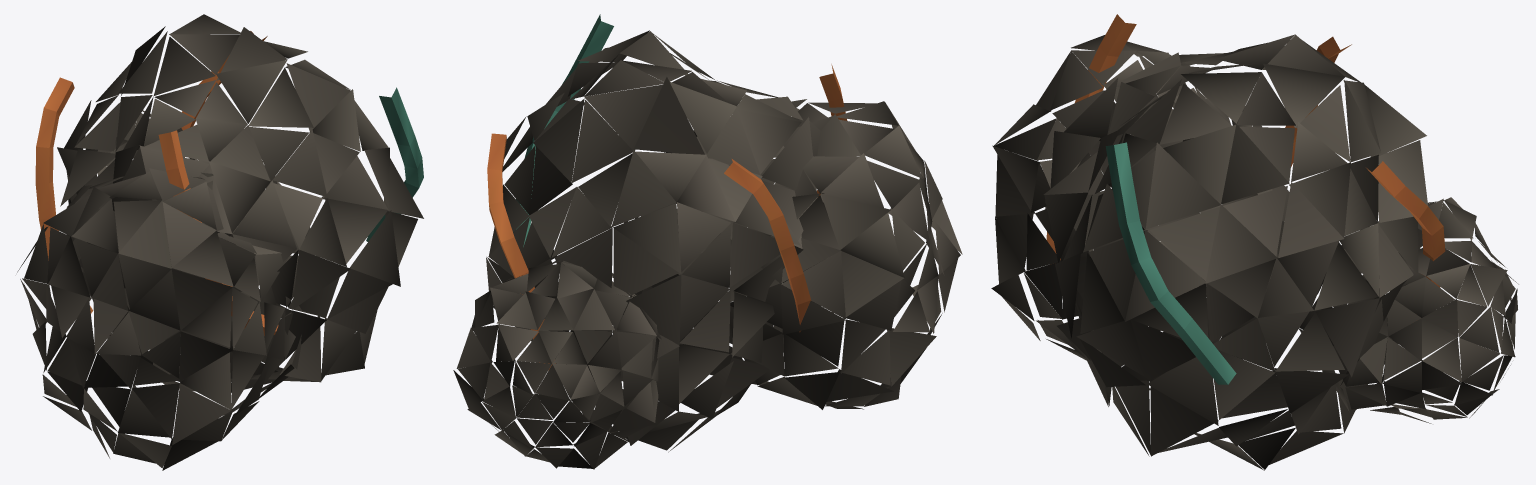
The model's file is small-lod1.glb.
The picture shows the model from 3 angles, left to right: view 1: azimuth 30°, elevation 25°; view 2: azimuth 150°, elevation 25°; view 3: azimuth 270°, elevation 25°; orthographic projection. The views are drawn at different scales.
Parts seen in each view (by area): view 1: copper-host-rock, copper-mineral-seams; view 2: copper-host-rock, copper-mineral-seams; view 3: copper-host-rock, copper-mineral-seams.
Part boxes in pixels (box(x1,y1,x2,y2)): copper-host-rock: box(17, 14, 423, 470); copper-mineral-seams: box(35, 31, 423, 335); copper-host-rock: box(453, 30, 962, 469); copper-mineral-seams: box(487, 14, 847, 370); copper-host-rock: box(991, 34, 1518, 470); copper-mineral-seams: box(1046, 14, 1445, 384).
Size of the model in its own units: 1.96 by 1.79 by 2.1.
